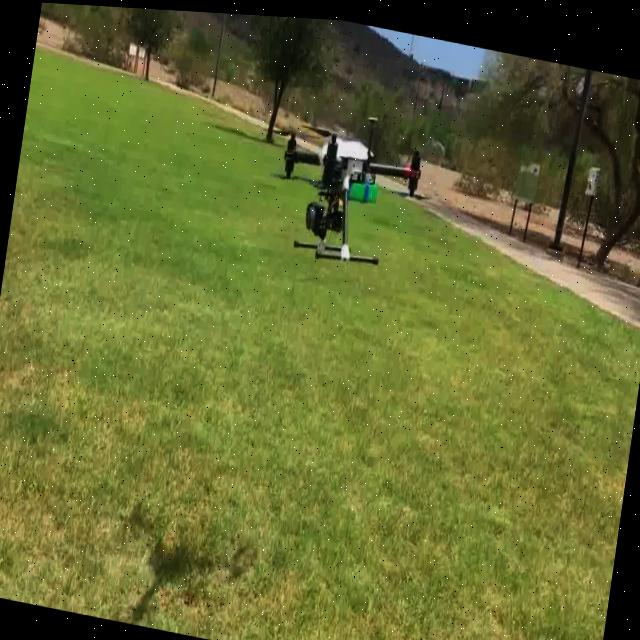drone: (262, 105, 428, 272)
